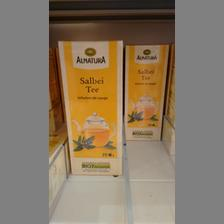Tee: (57, 37, 124, 175), (124, 43, 168, 140)
